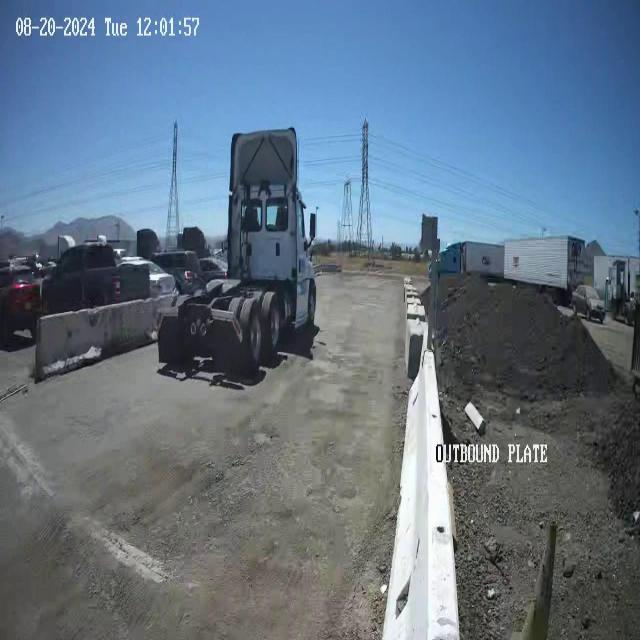BOBTAIL: (156, 125, 318, 375)
